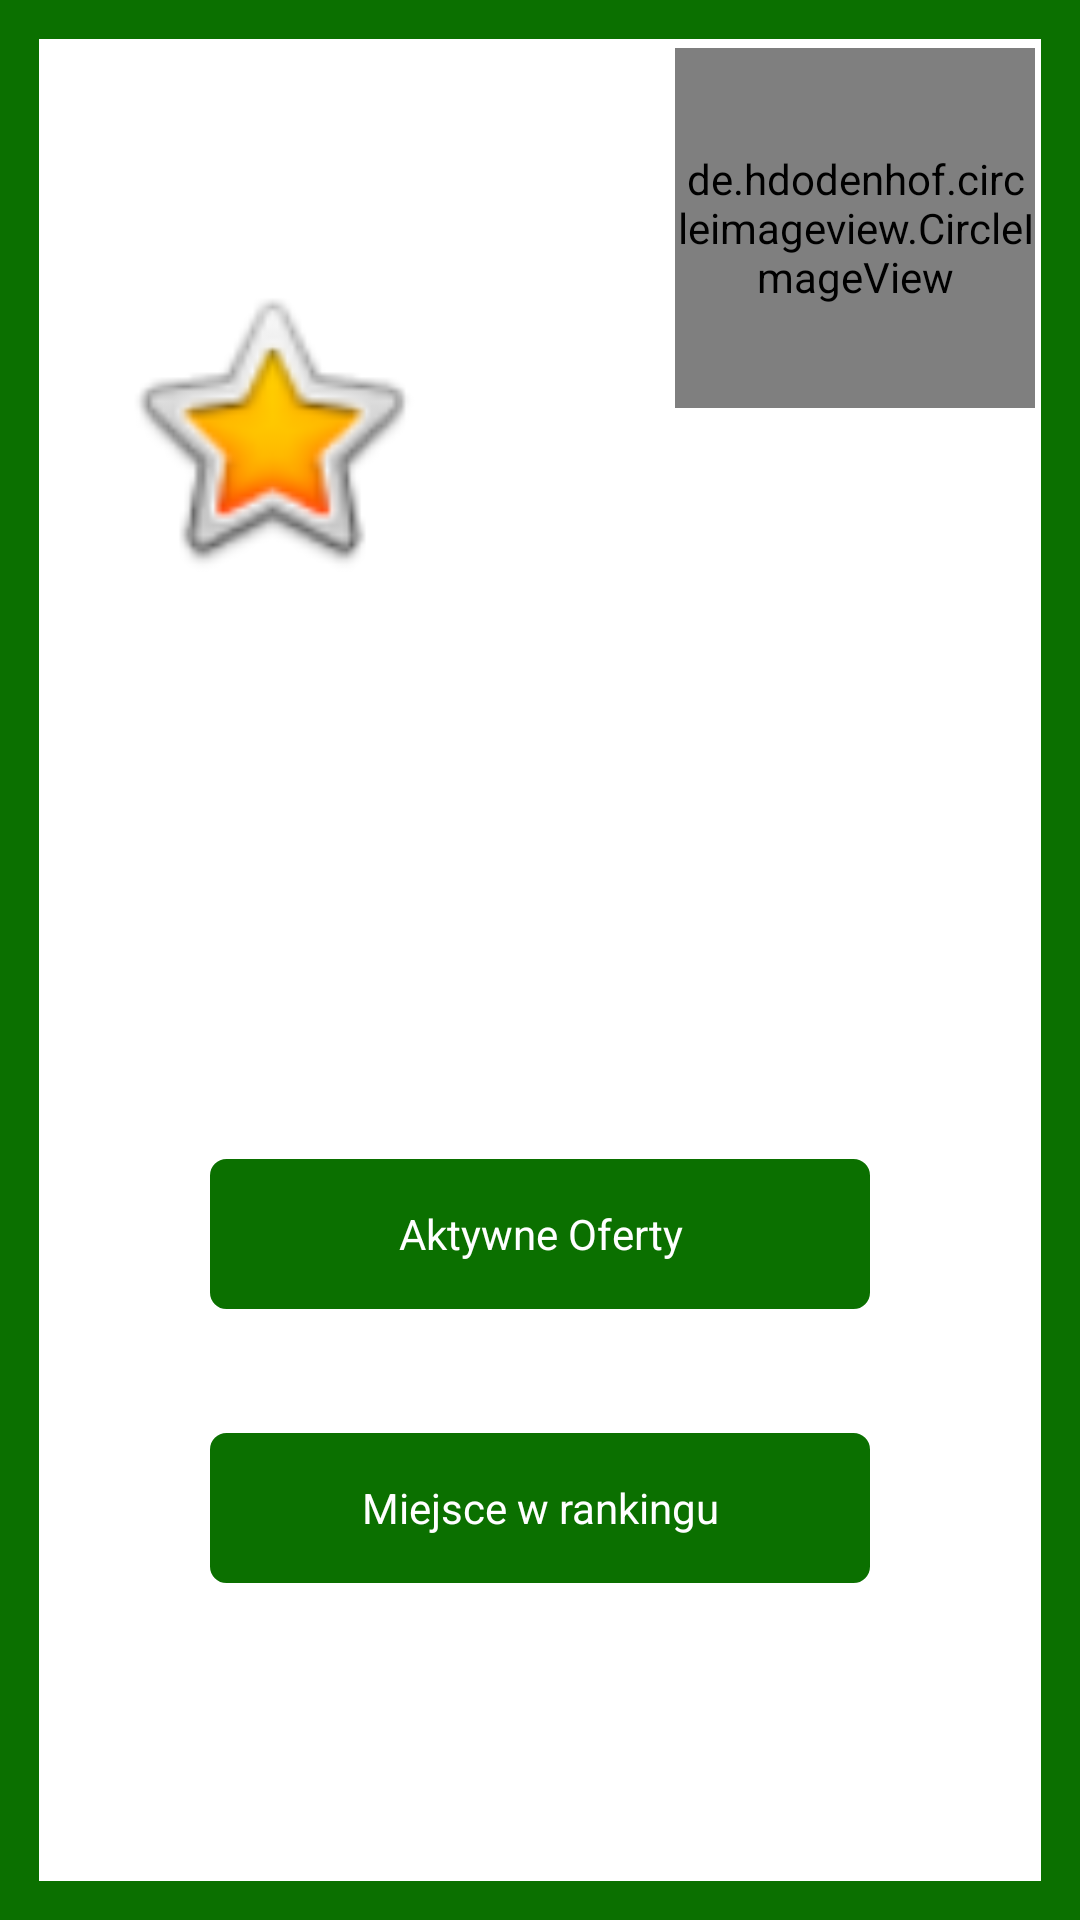

Icons on this 1080w x 1920h Android screen, each with its box as (x1, y1, x2, y2):
star on: (140, 302, 405, 560)
